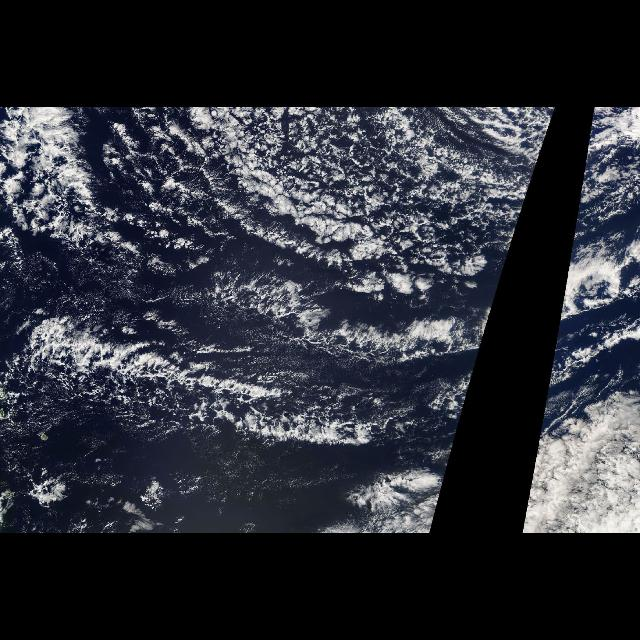Fish: (4, 114, 442, 460)
Gravel: (0, 108, 536, 446)
